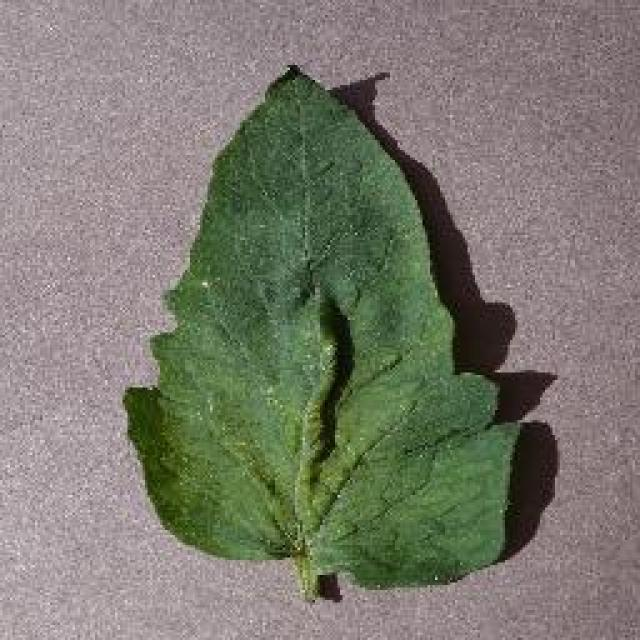Tomato mosaic virus leaf: (120, 67, 525, 585)
